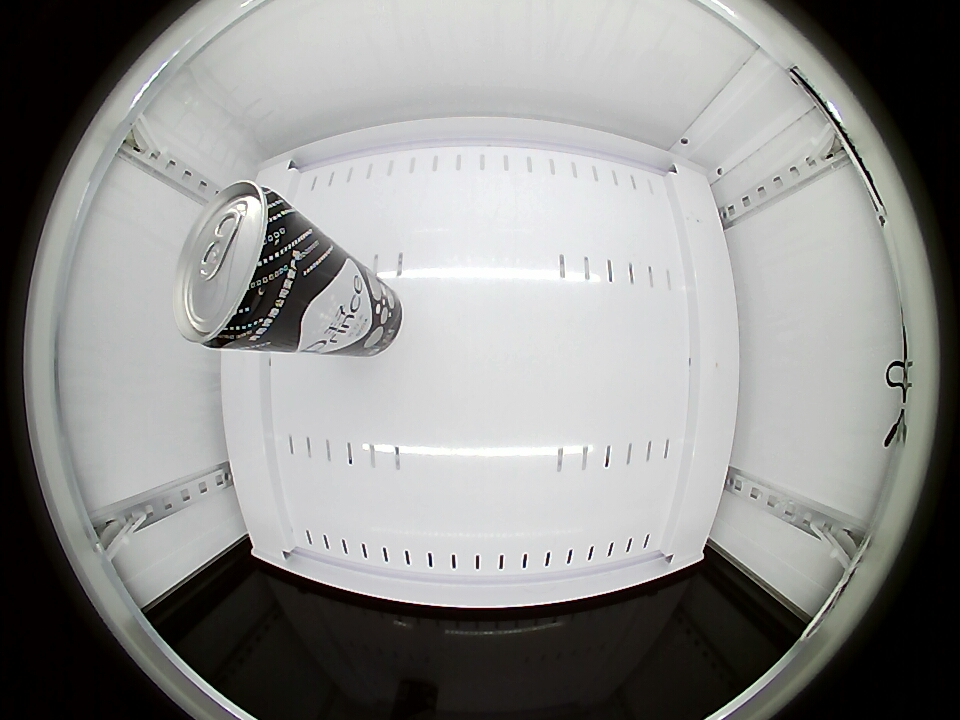qingdaowangzi-1: (175, 181, 308, 351)
